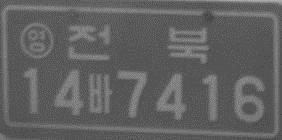1: (18, 66, 49, 114), (196, 73, 226, 122)
4: (155, 71, 187, 120), (53, 69, 85, 116)
6: (233, 74, 265, 123)
7: (115, 68, 147, 117)
바: (87, 71, 112, 114)
영: (18, 21, 55, 59)
전북_D: (66, 23, 209, 64)
